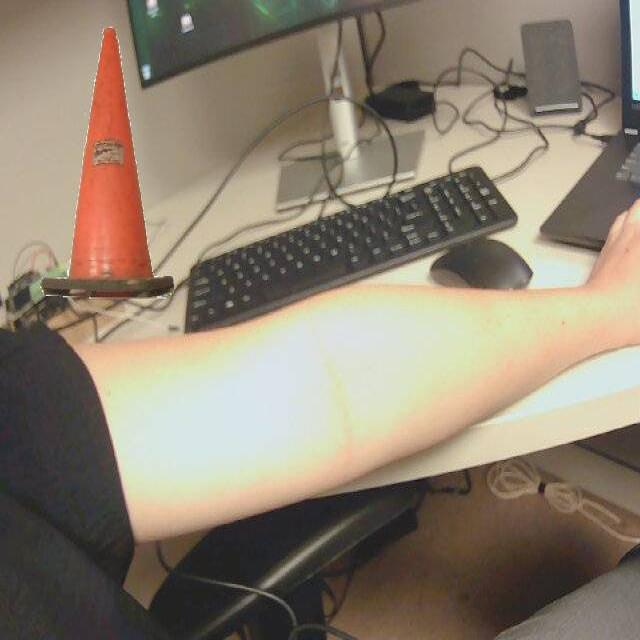traffic cone: (34, 22, 183, 307)
